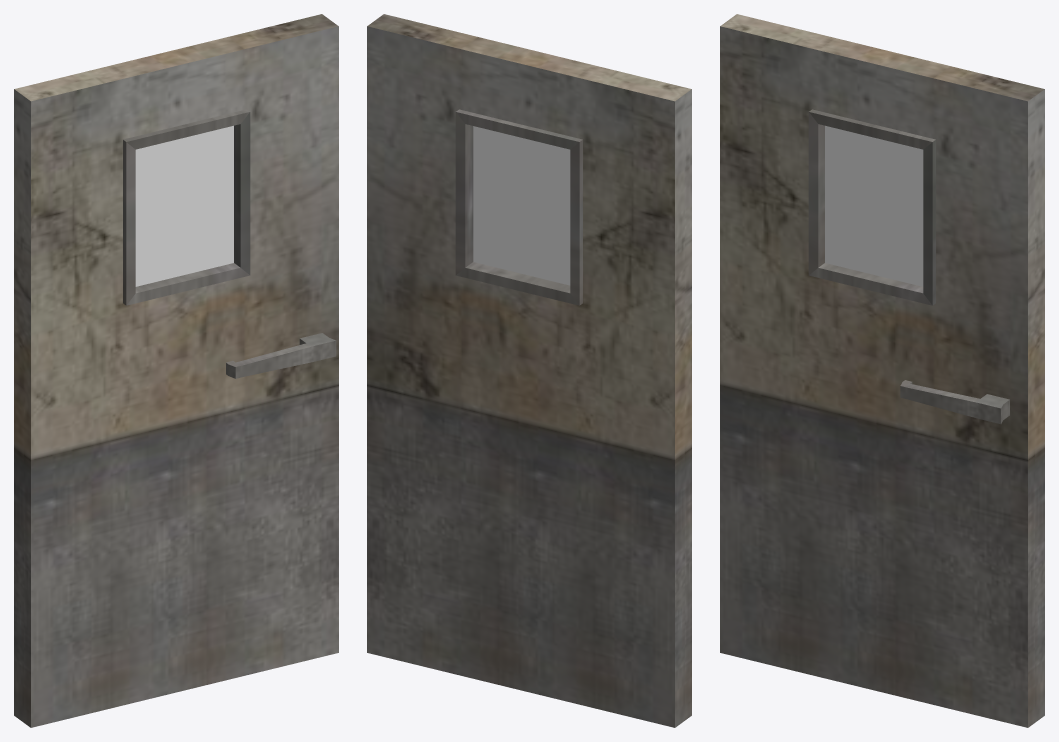
The model's file is DoorType3.glb.
3 renders of one model, left to right at view 1: azimuth 30°, elevation 25°; view 2: azimuth 150°, elevation 25°; view 3: azimuth 330°, elevation 25°, orthographic.
Visible parts, largest first — view 1: Door_03; view 2: Door_03; view 3: Door_03.
Boxes of the visible parts, bbox=[...] form: Door_03: bbox=[14, 14, 338, 727]; Door_03: bbox=[367, 14, 691, 727]; Door_03: bbox=[720, 14, 1044, 727].
Size of the model in its own units: 1.37 by 2.67 by 0.2505.
2 materials, 1 textured.
